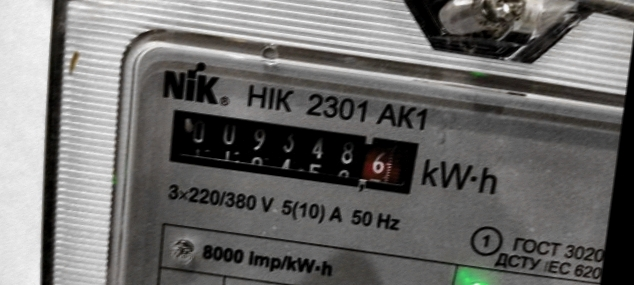0: (188, 117, 207, 145), (219, 119, 236, 146)
3: (280, 128, 297, 154)
4: (306, 129, 328, 162)
6: (367, 146, 388, 177)
8: (337, 137, 356, 166)
9: (249, 126, 267, 154)
screen: (147, 93, 433, 207)
